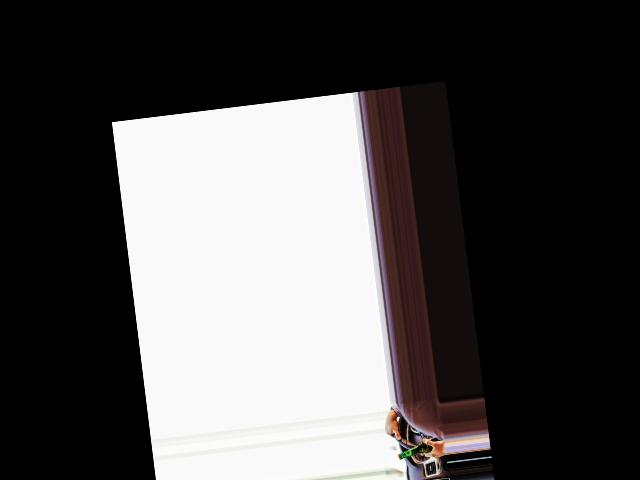beer: (396, 434, 445, 460)
